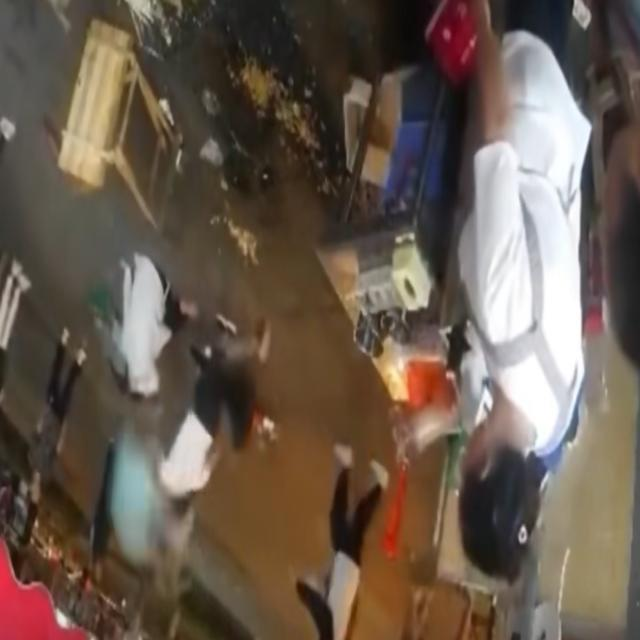nofight: (459, 6, 594, 567), (294, 428, 367, 640), (160, 302, 223, 518), (28, 322, 77, 526), (115, 245, 162, 403)
